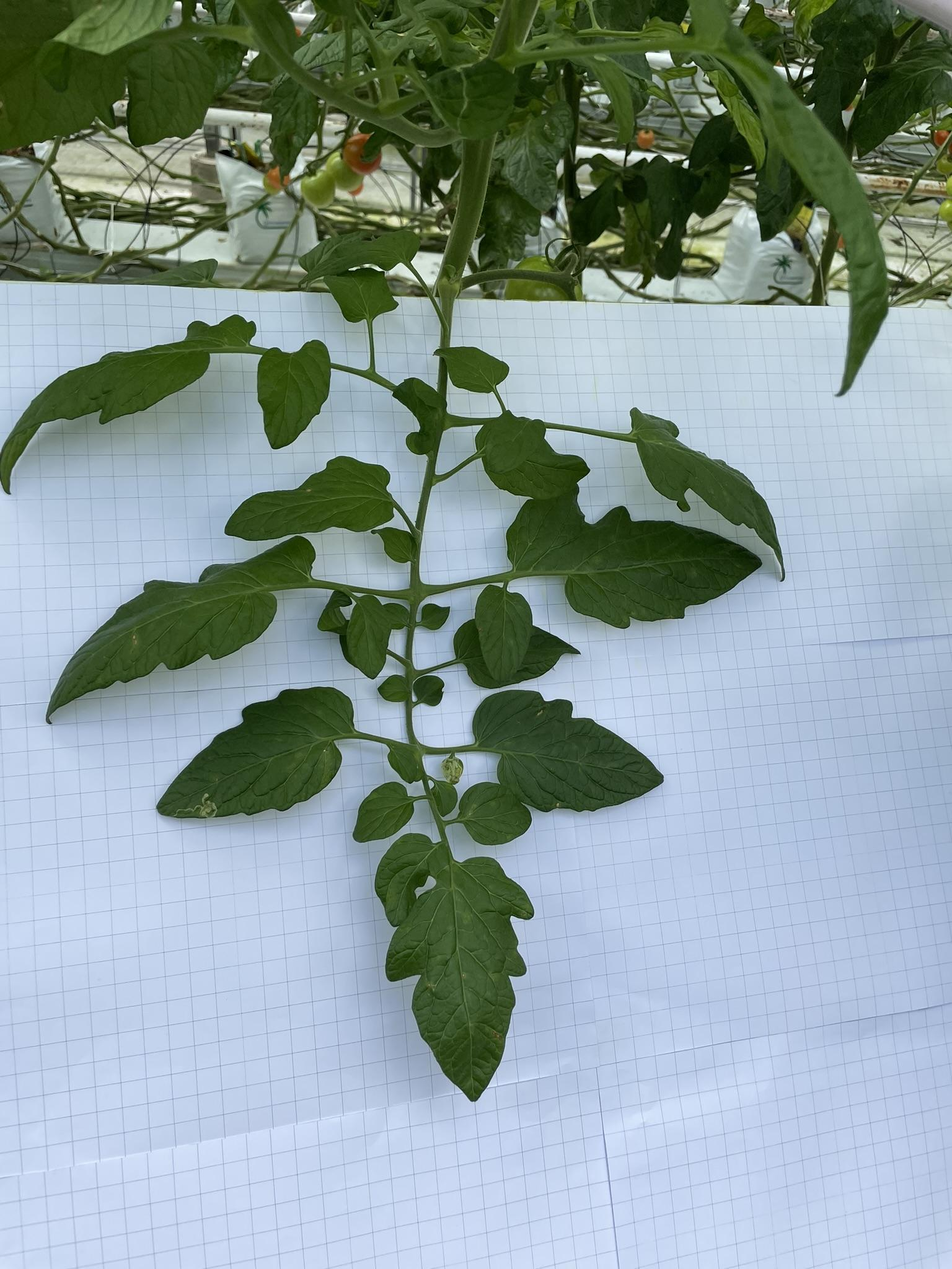Healthy: (688, 0, 890, 397), (0, 314, 258, 496), (629, 405, 787, 582), (224, 454, 395, 542), (853, 39, 952, 162), (454, 617, 583, 689), (493, 100, 574, 214), (257, 339, 331, 450), (296, 228, 421, 291), (474, 584, 532, 682), (323, 267, 400, 324), (484, 408, 546, 474), (346, 594, 392, 680), (352, 782, 415, 844), (432, 344, 510, 394), (370, 526, 418, 564), (387, 745, 419, 784), (412, 673, 446, 708), (377, 673, 411, 702), (422, 600, 451, 631)
Leaf_Miner: (153, 677, 354, 823), (441, 754, 466, 786)
